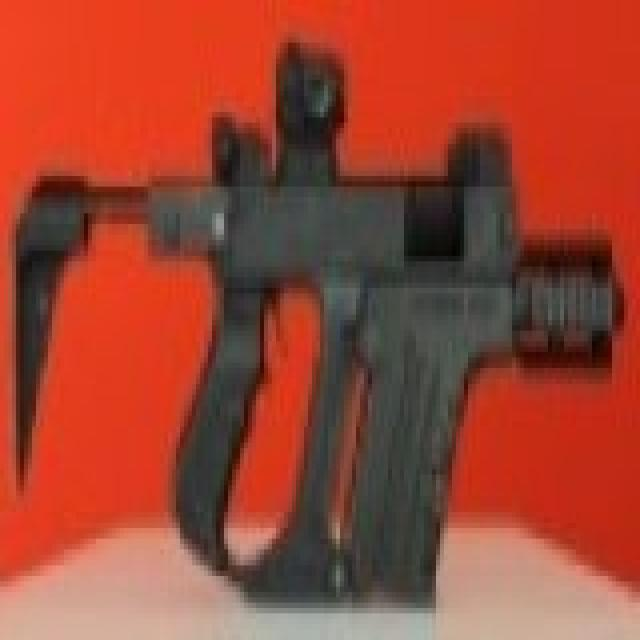Gun: (14, 58, 614, 621)
